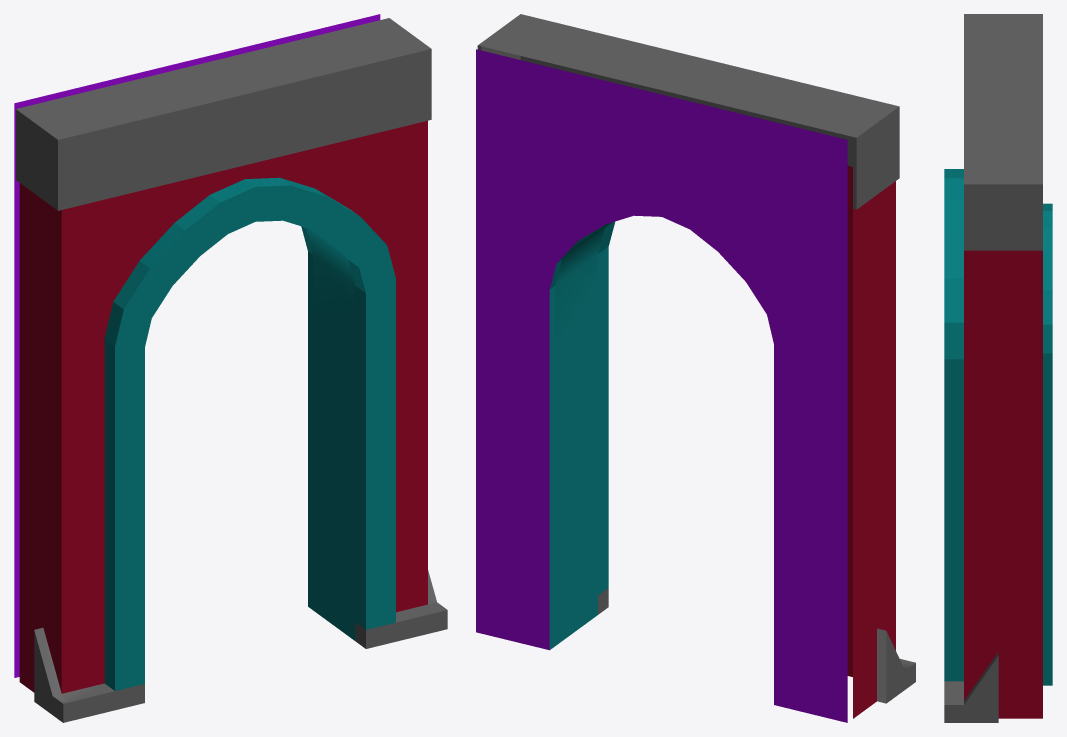
File: Door_Frame_02.fbx
3 views of the same model, side by side, from view 1: azimuth 30°, elevation 25°; view 2: azimuth 150°, elevation 25°; view 3: azimuth 270°, elevation 25° (orthographic). The views are drawn at different scales.
Visible parts, largest first — view 1: Door_Frame_02; view 2: Door_Frame_02; view 3: Door_Frame_02.
Boxes of the visible parts, x1,y1,x2,y2 form: Door_Frame_02: [14, 14, 447, 722]; Door_Frame_02: [476, 14, 915, 722]; Door_Frame_02: [944, 14, 1052, 722].
Size of the model in its own units: 2.1 by 3 by 0.55.
